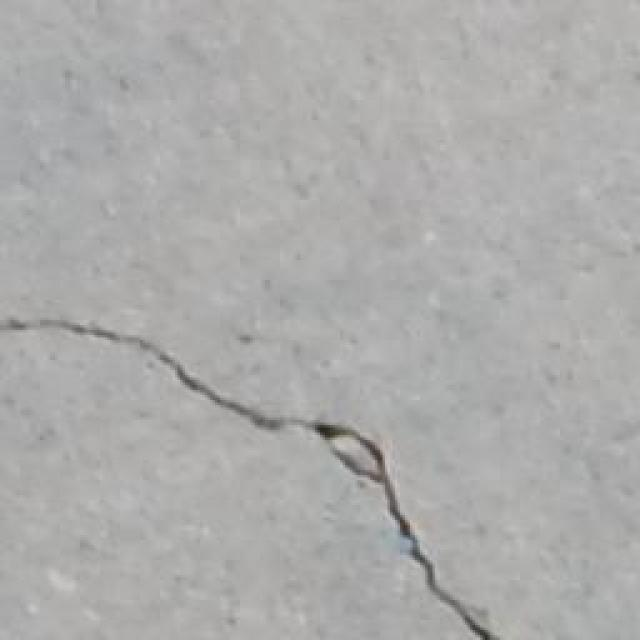concrete-crack: (0, 318, 502, 640)
